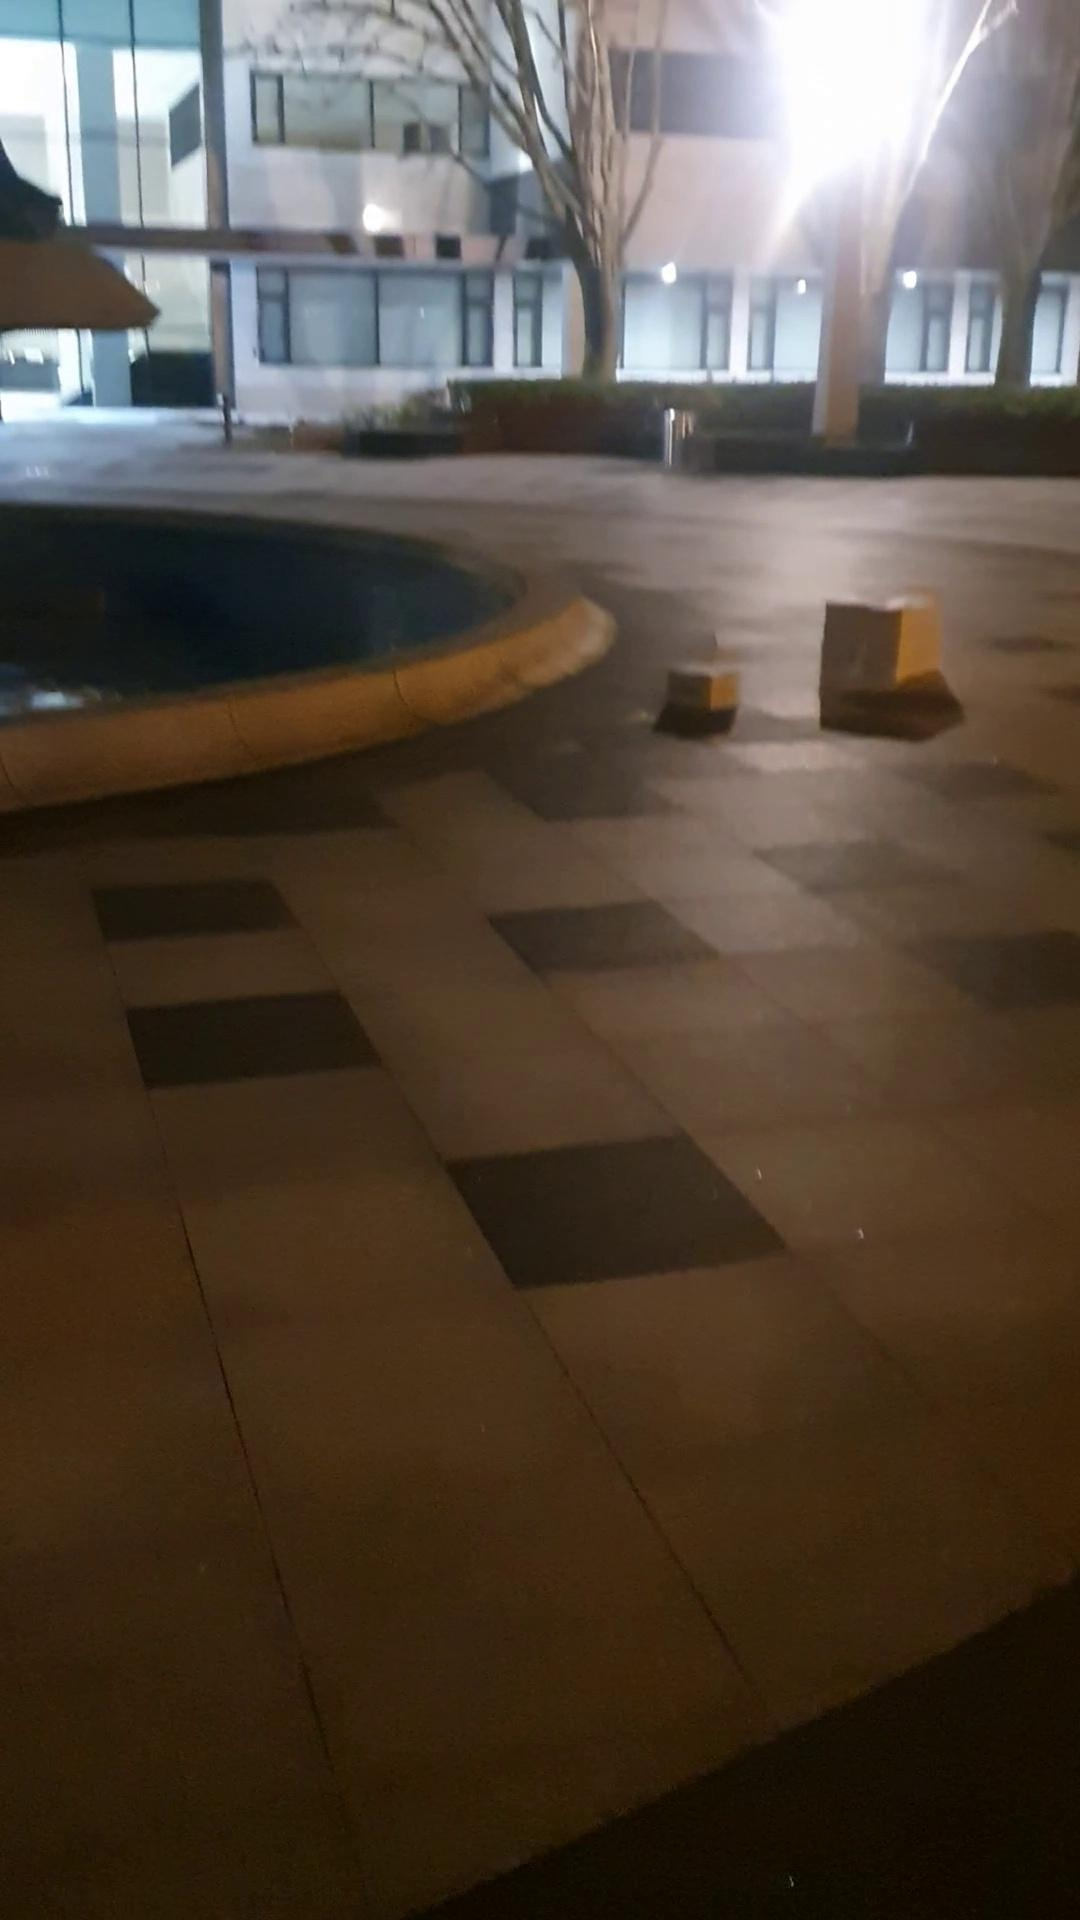Box: (814, 580, 957, 702), (651, 653, 746, 723)
